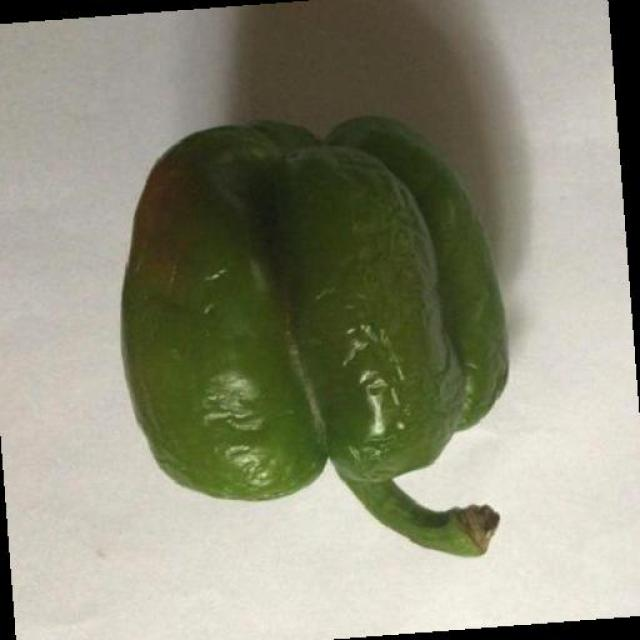Stale_Capsicum: (121, 123, 538, 555)
